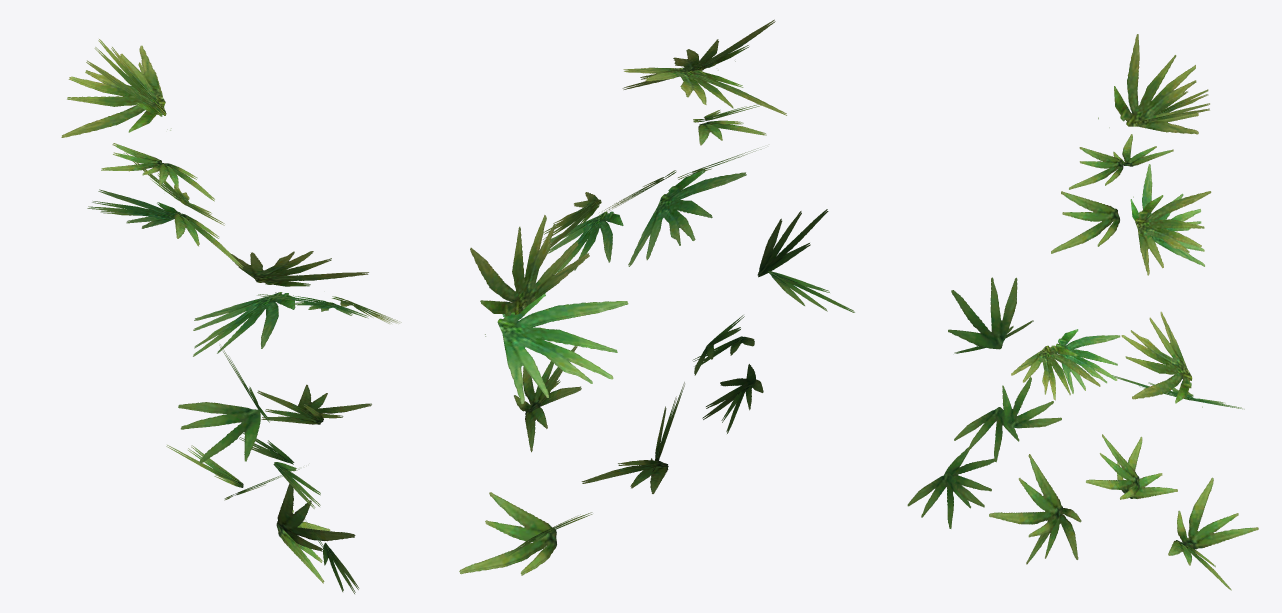
The model's file is Area_11_41.fbx.
The picture shows the model from 3 angles, left to right: view 1: azimuth 30°, elevation 25°; view 2: azimuth 150°, elevation 25°; view 3: azimuth 270°, elevation 25°; orthographic projection. The views are drawn at different scales.
Parts seen in each view (by area): view 1: Area_11_41; view 2: Area_11_41; view 3: Area_11_41.
Boxes of the visible parts, x1,y1,x2,y2 form: Area_11_41: (61, 39, 401, 593); Area_11_41: (459, 19, 854, 575); Area_11_41: (907, 34, 1258, 590).
Size of the model in its own units: 813 by 1295 by 882.
